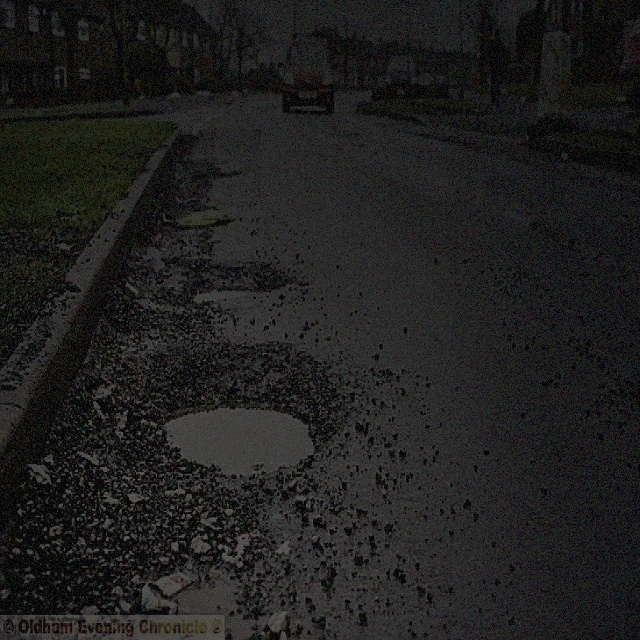pothole: (157, 381, 324, 487), (184, 267, 272, 306)
